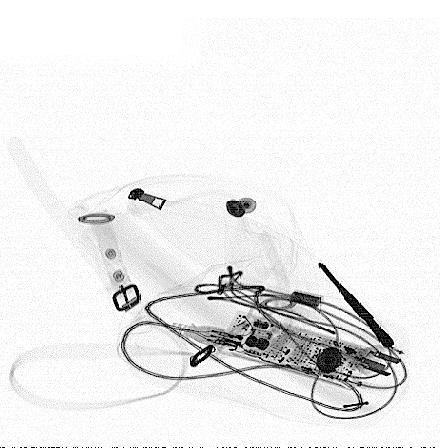Gun: (317, 262, 397, 350)
